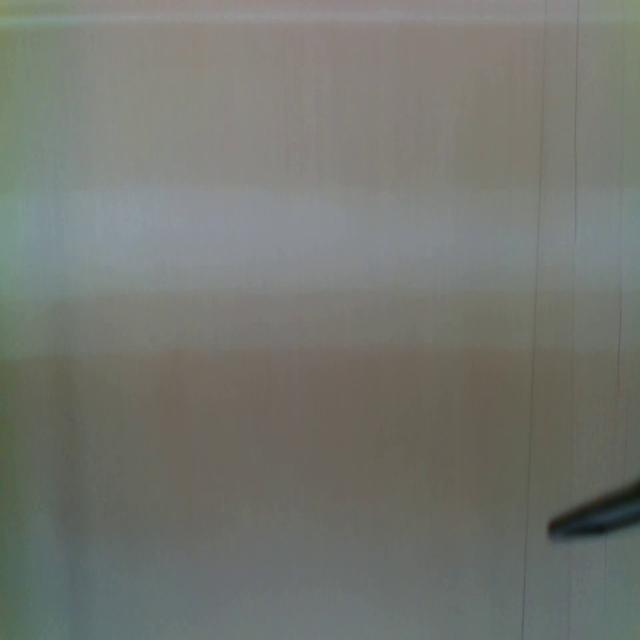color bleeding: (1, 289, 640, 494), (5, 14, 640, 220)
crease: (520, 0, 550, 640), (568, 0, 581, 506), (615, 284, 624, 390)
